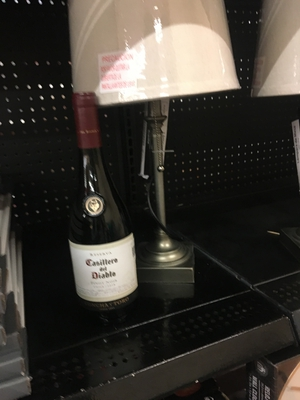casillero del diablo pinot noir: (55, 90, 149, 331)
